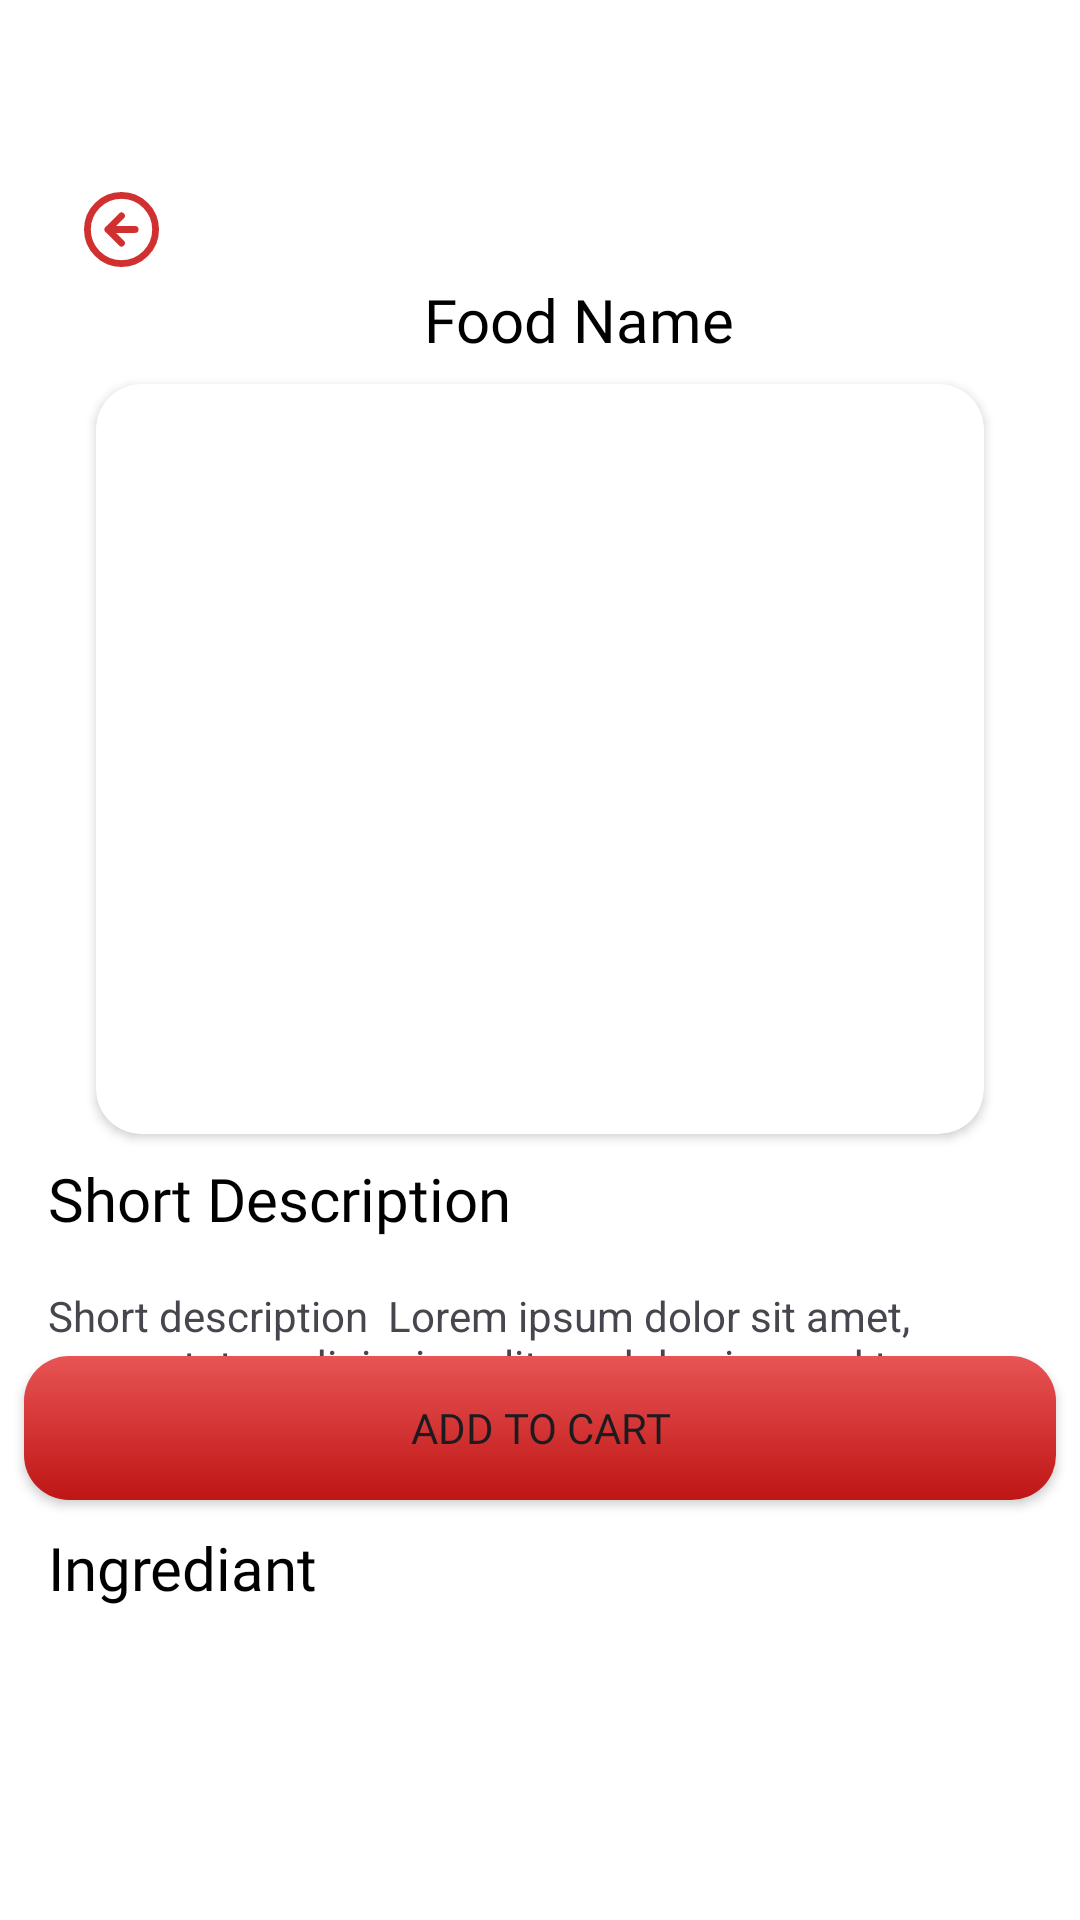

Locate icon controls on the screen. Image size 1080 x 1920, boxes as {"left": x1, "top": y1, "right": x2, "bottom": y2}.
arrow left: {"left": 84, "top": 192, "right": 159, "bottom": 267}
